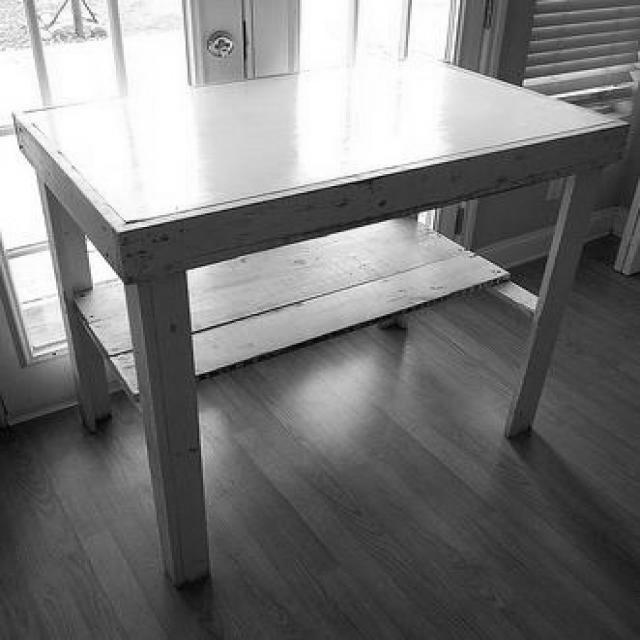table: (19, 58, 626, 590)
